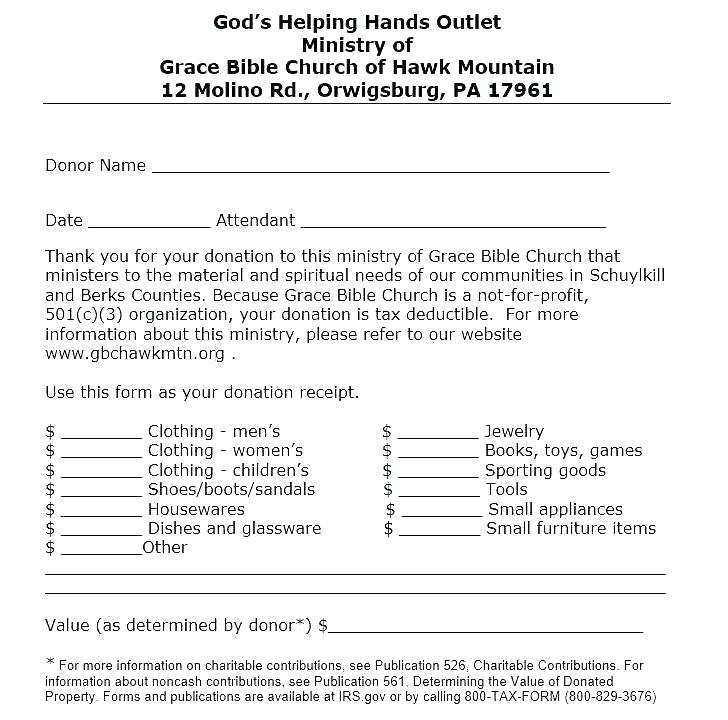textline: (42, 560, 669, 583), (148, 148, 615, 178), (38, 578, 669, 598), (298, 202, 616, 232), (326, 612, 649, 640), (84, 204, 215, 233), (58, 421, 145, 443), (58, 442, 149, 461), (56, 462, 147, 481), (56, 481, 147, 500), (56, 501, 147, 520), (56, 520, 147, 539), (56, 539, 147, 558), (392, 423, 483, 442), (392, 443, 483, 462), (392, 462, 483, 481), (393, 480, 484, 499), (394, 501, 485, 520), (393, 520, 484, 539)
